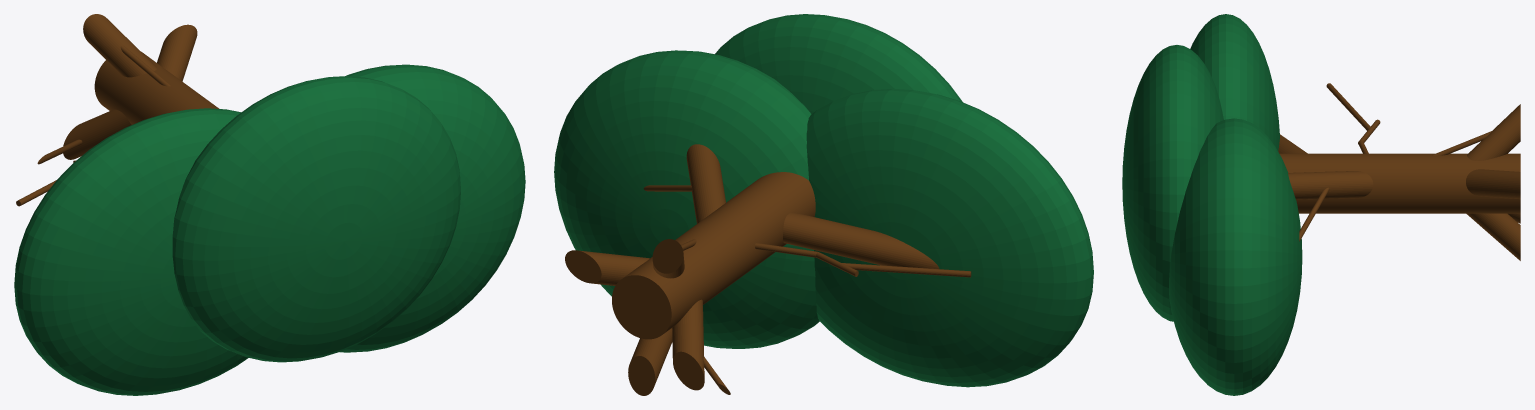
The model's file is tinker.obj.
3 renders of one model, left to right at view 1: azimuth 30°, elevation 25°; view 2: azimuth 150°, elevation 25°; view 3: azimuth 270°, elevation 25°, orthographic. The views are drawn at different scales.
Parts seen in each view (by area): view 1: obj_0, obj_1, obj_2, obj_3; view 2: obj_1, obj_2, obj_3, obj_0; view 3: obj_2, obj_3, obj_0, obj_1.
Boxes of the visible parts, left/top/right/bottom form: obj_0: left=172, top=76, right=460, bottom=362; obj_1: left=14, top=108, right=248, bottom=395; obj_2: left=339, top=64, right=525, bottom=352; obj_3: left=16, top=14, right=219, bottom=206; obj_1: left=806, top=88, right=1093, bottom=387; obj_2: left=554, top=50, right=819, bottom=348; obj_3: left=565, top=144, right=971, bottom=395; obj_0: left=715, top=14, right=962, bottom=113; obj_2: left=1169, top=118, right=1302, bottom=395; obj_3: left=1278, top=83, right=1520, bottom=260; obj_0: left=1122, top=45, right=1223, bottom=321; obj_1: left=1190, top=14, right=1279, bottom=150.
Bounding box in the file's own units: 97 × 56.5 × 73.
